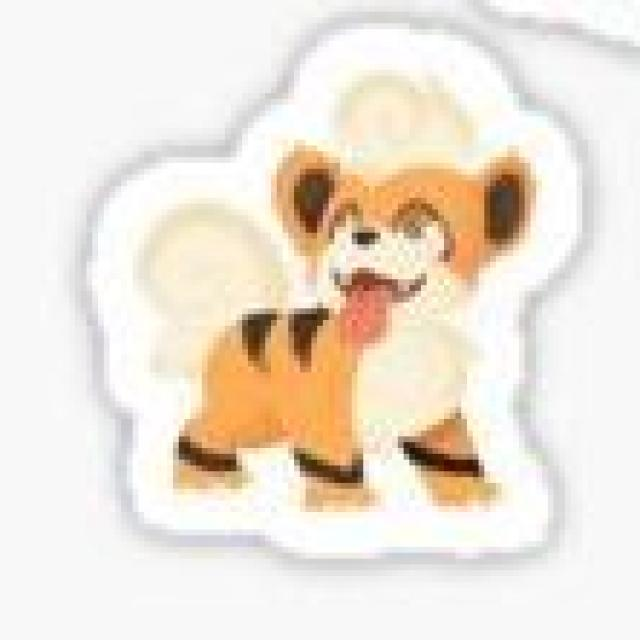Growlithe: (127, 131, 556, 520)
